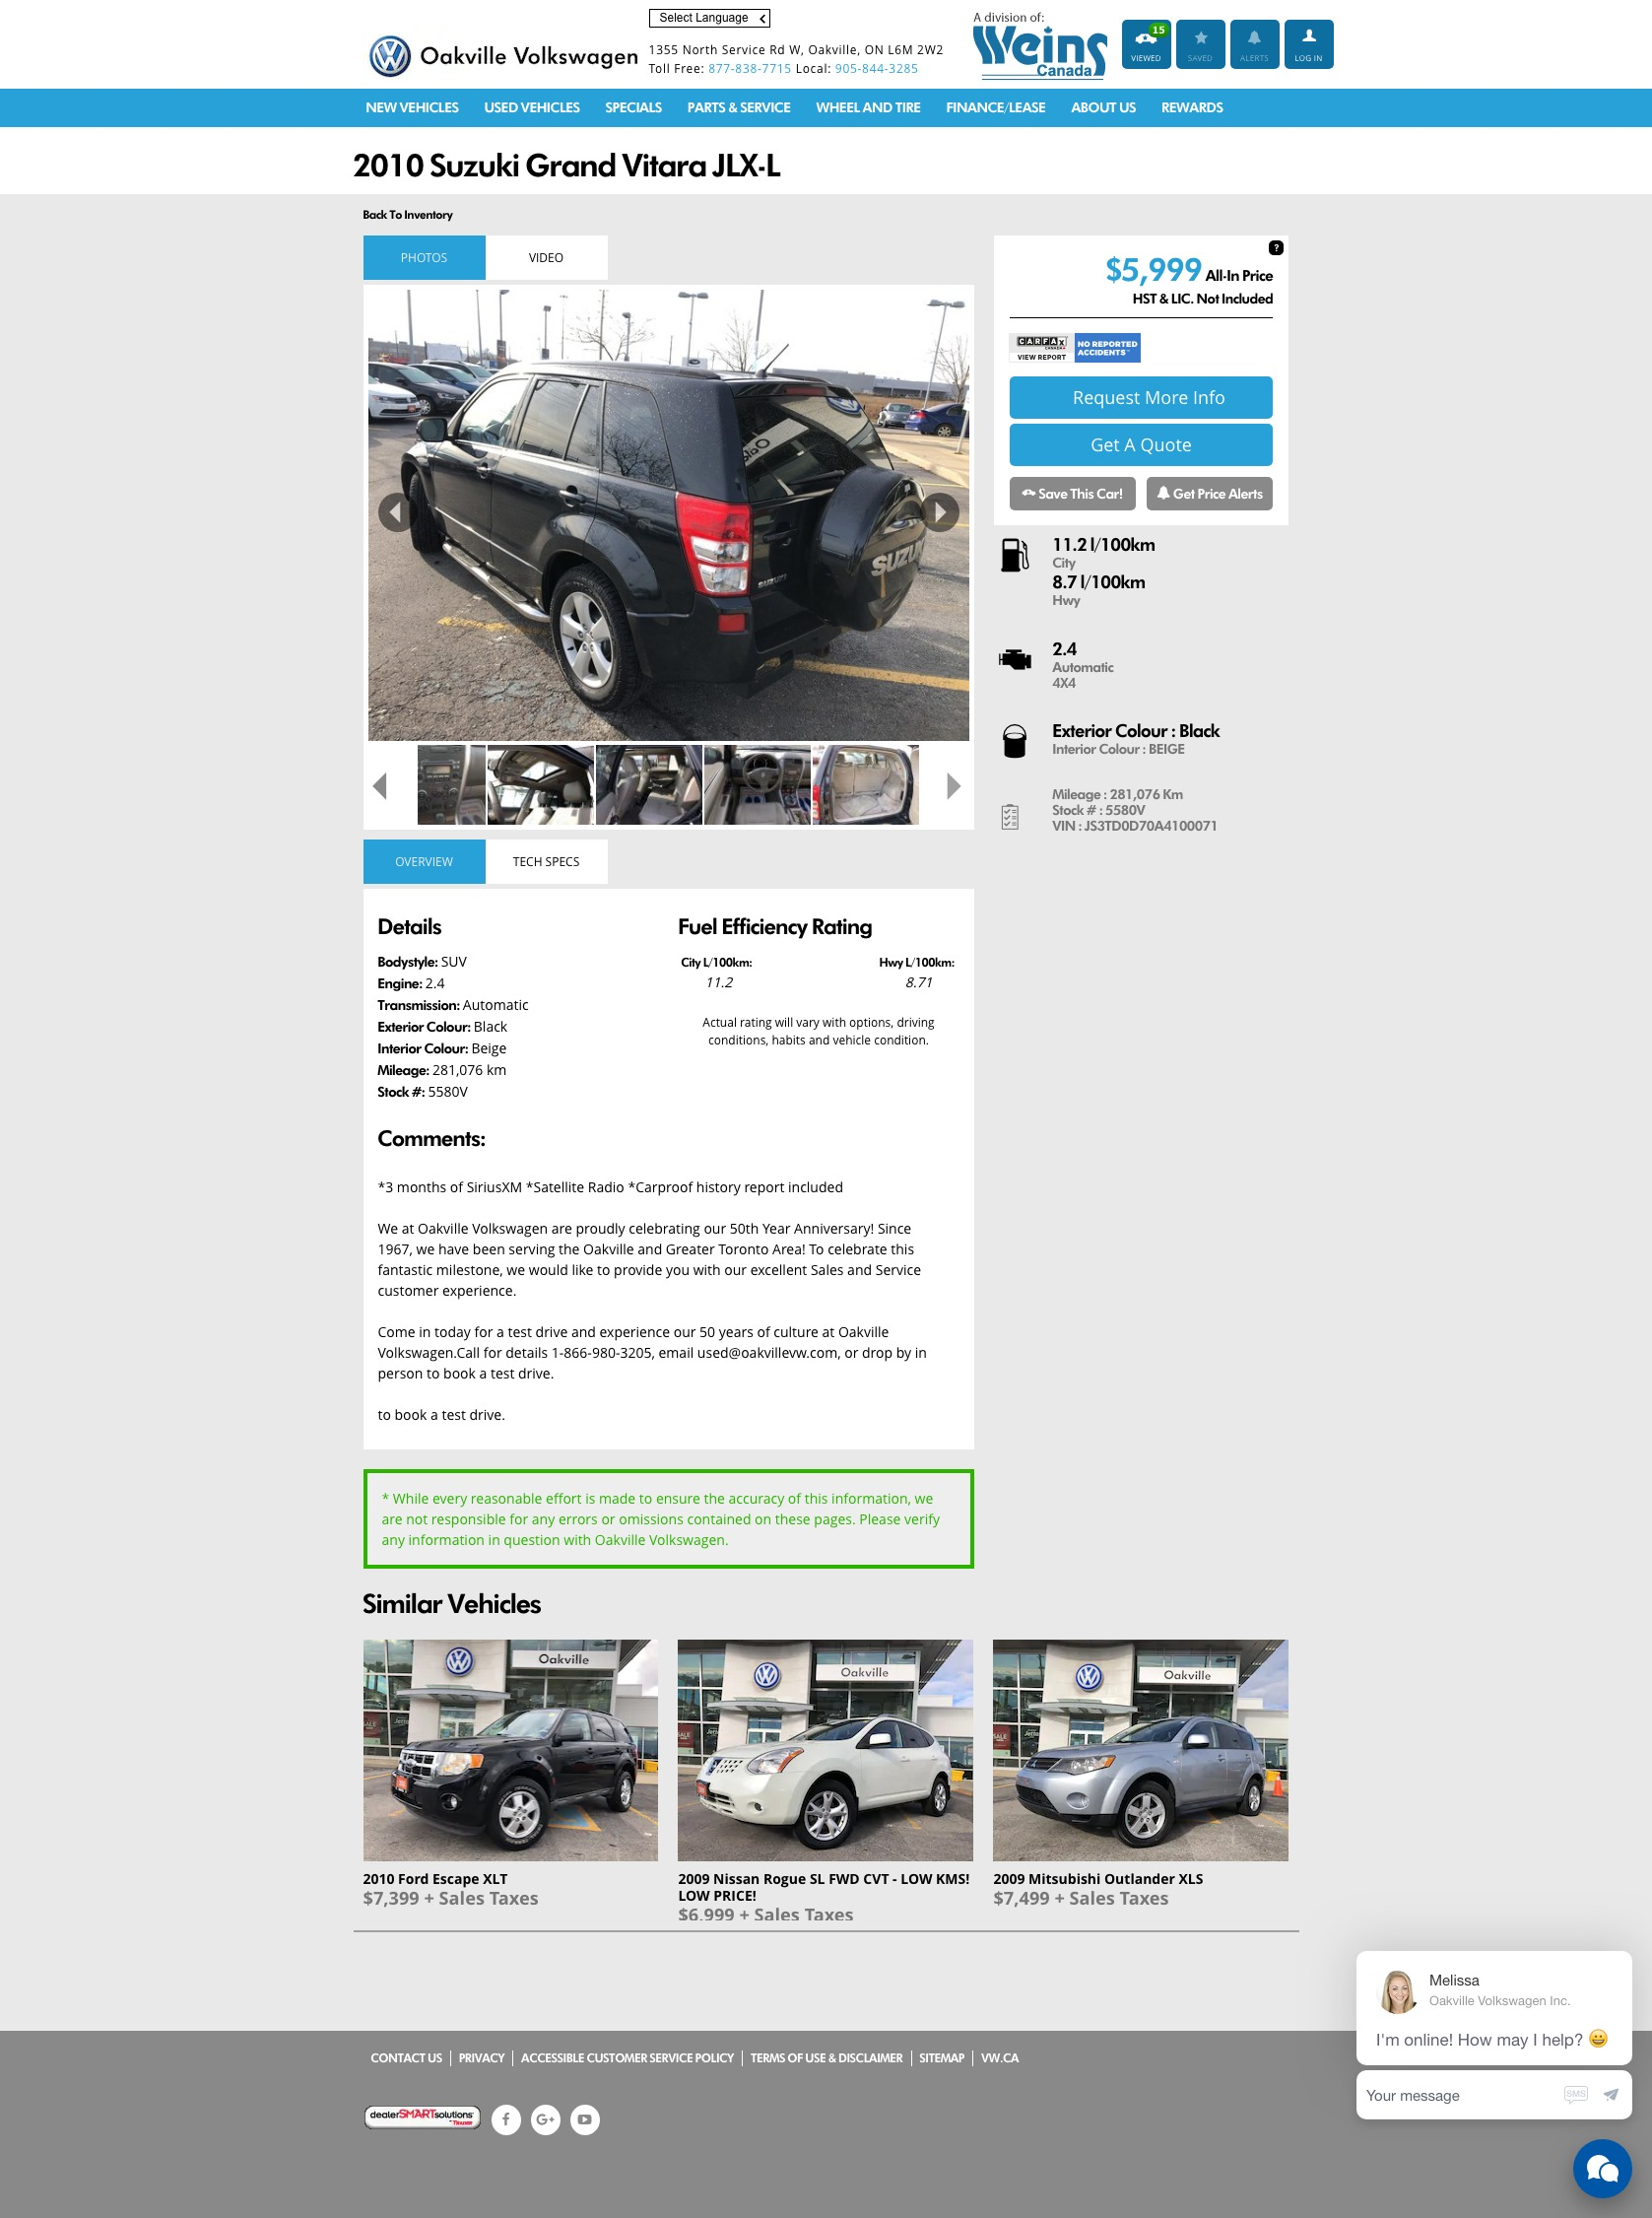car: (947, 772, 963, 802)
